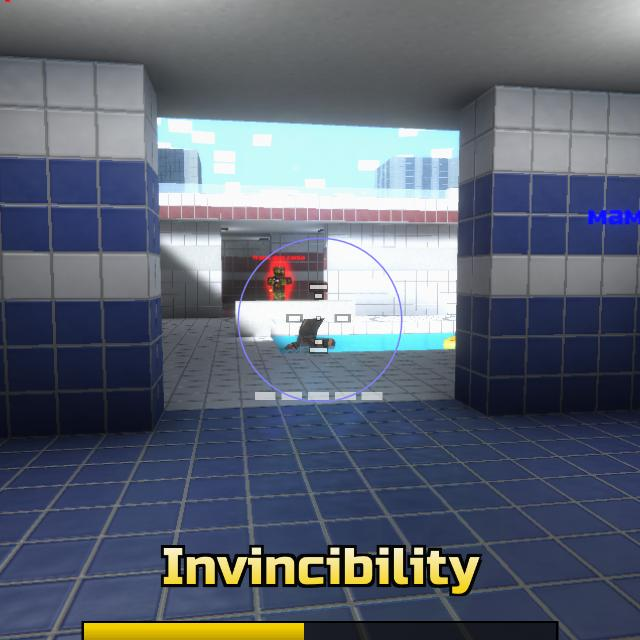Enemy: (267, 268, 292, 301)
